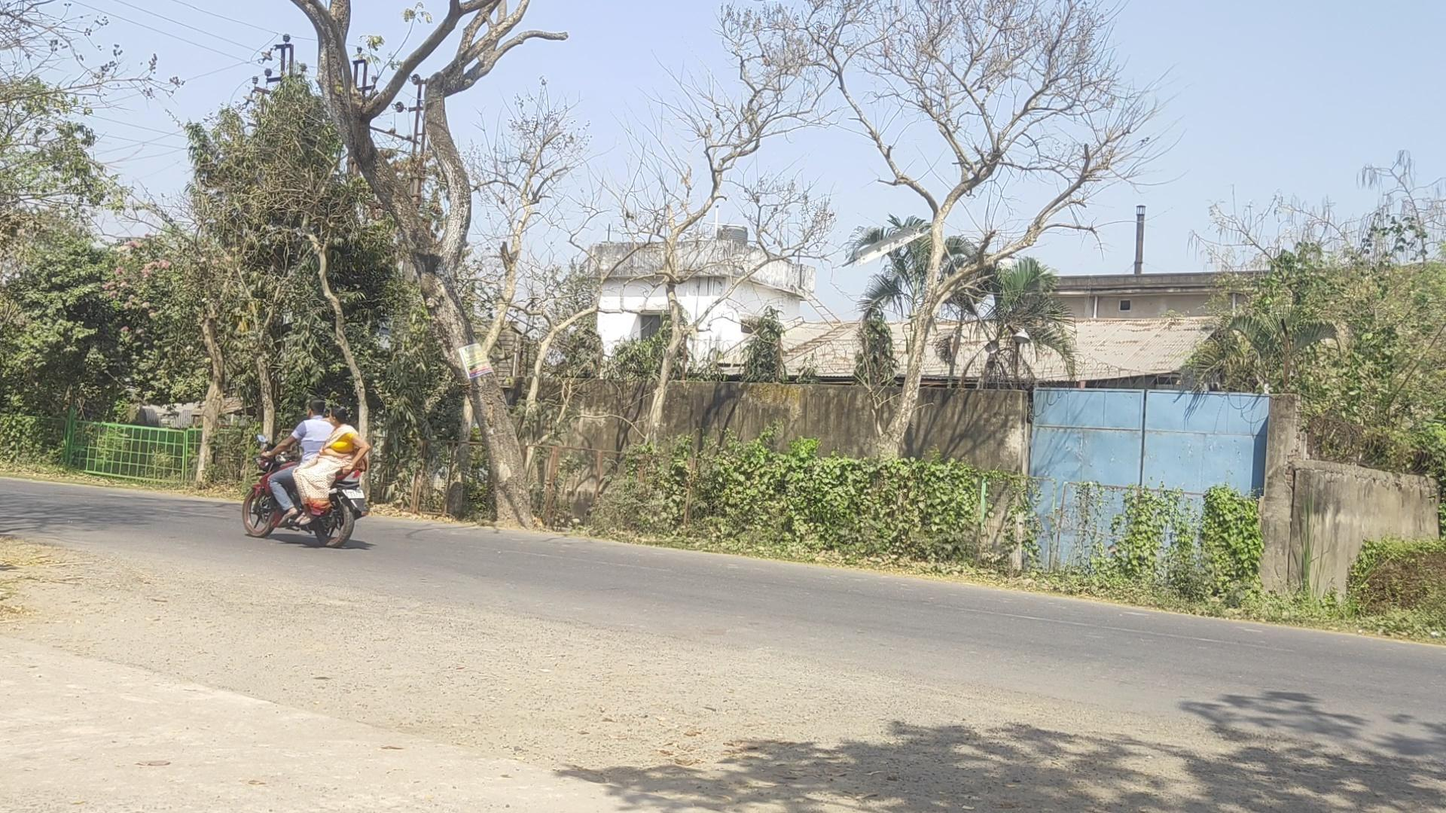bike: (243, 397, 372, 548)
